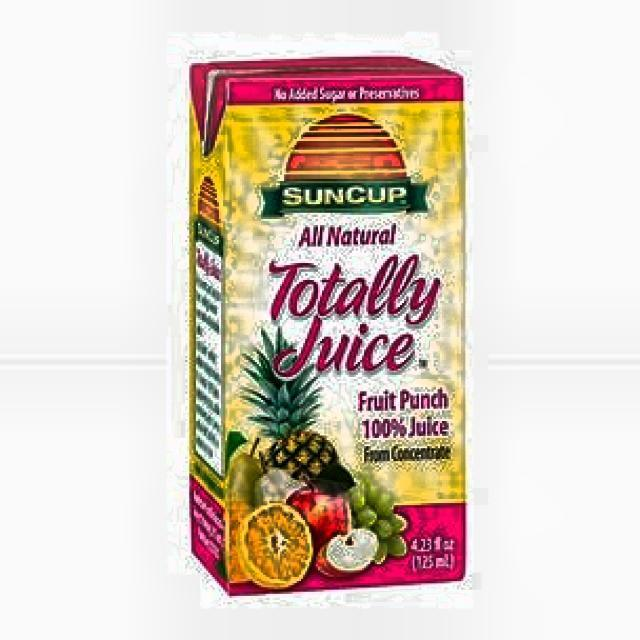cardboard: (185, 55, 468, 596)
